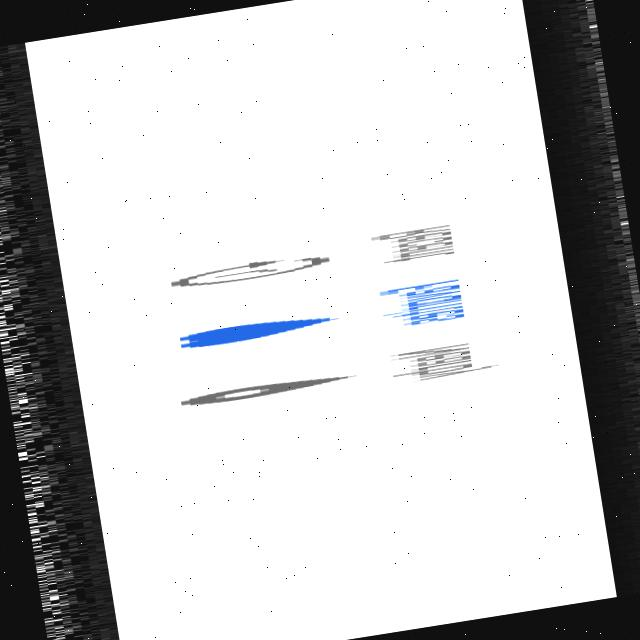QLabel: (368, 275, 478, 332), (386, 339, 494, 386), (364, 222, 464, 269)
VBottomNavigation: (24, 0, 634, 640)
VBtn: (130, 269, 503, 372), (126, 214, 493, 308), (156, 332, 516, 424)
VIcon: (157, 248, 346, 295), (179, 368, 364, 410), (173, 308, 348, 352)
